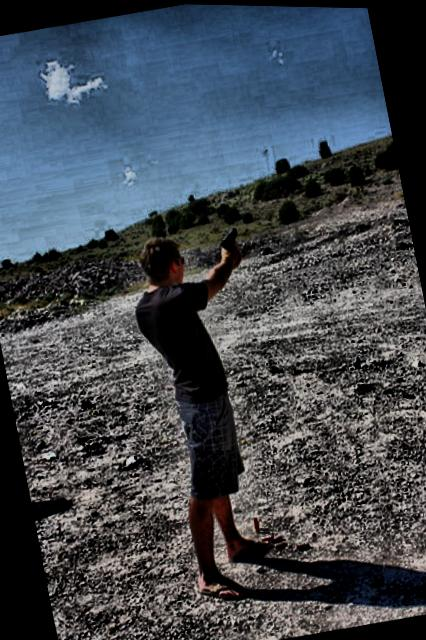pistol: (213, 222, 241, 254)
